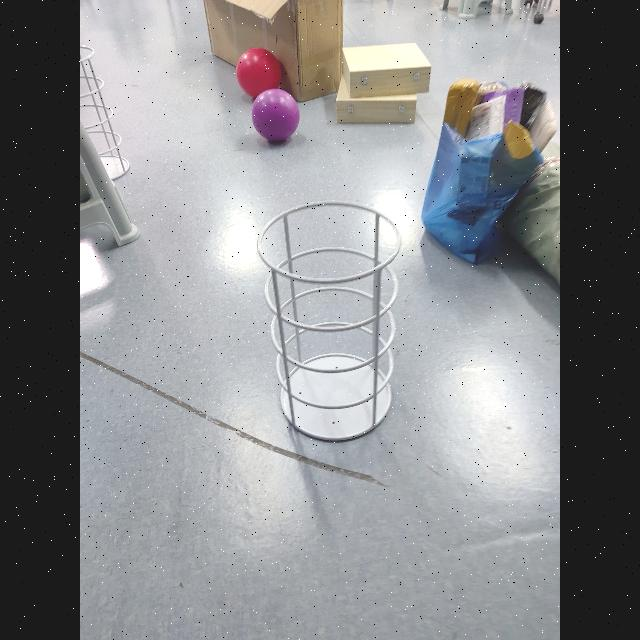S: (254, 198, 404, 448)
